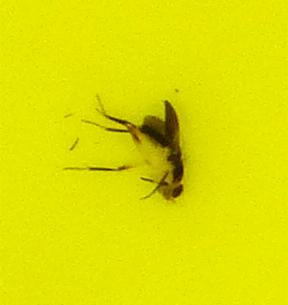Brachycera: (100, 100, 188, 205)
